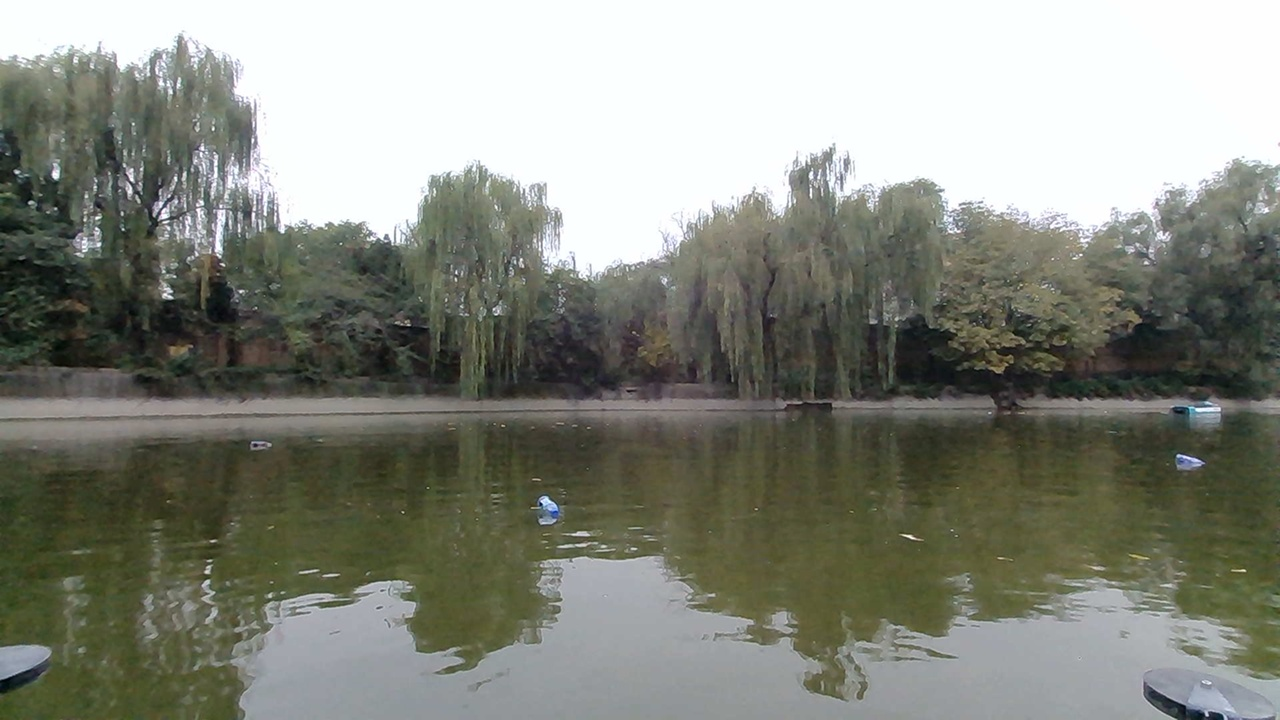bottle: (525, 490, 575, 527), (1167, 443, 1212, 477), (245, 423, 277, 457)
